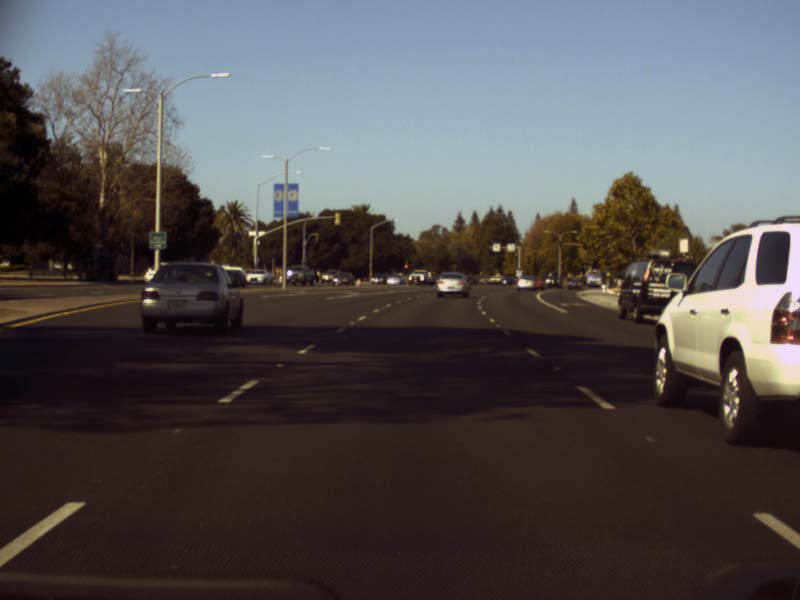Green: (557, 242, 561, 248)
Red: (403, 259, 408, 270)
